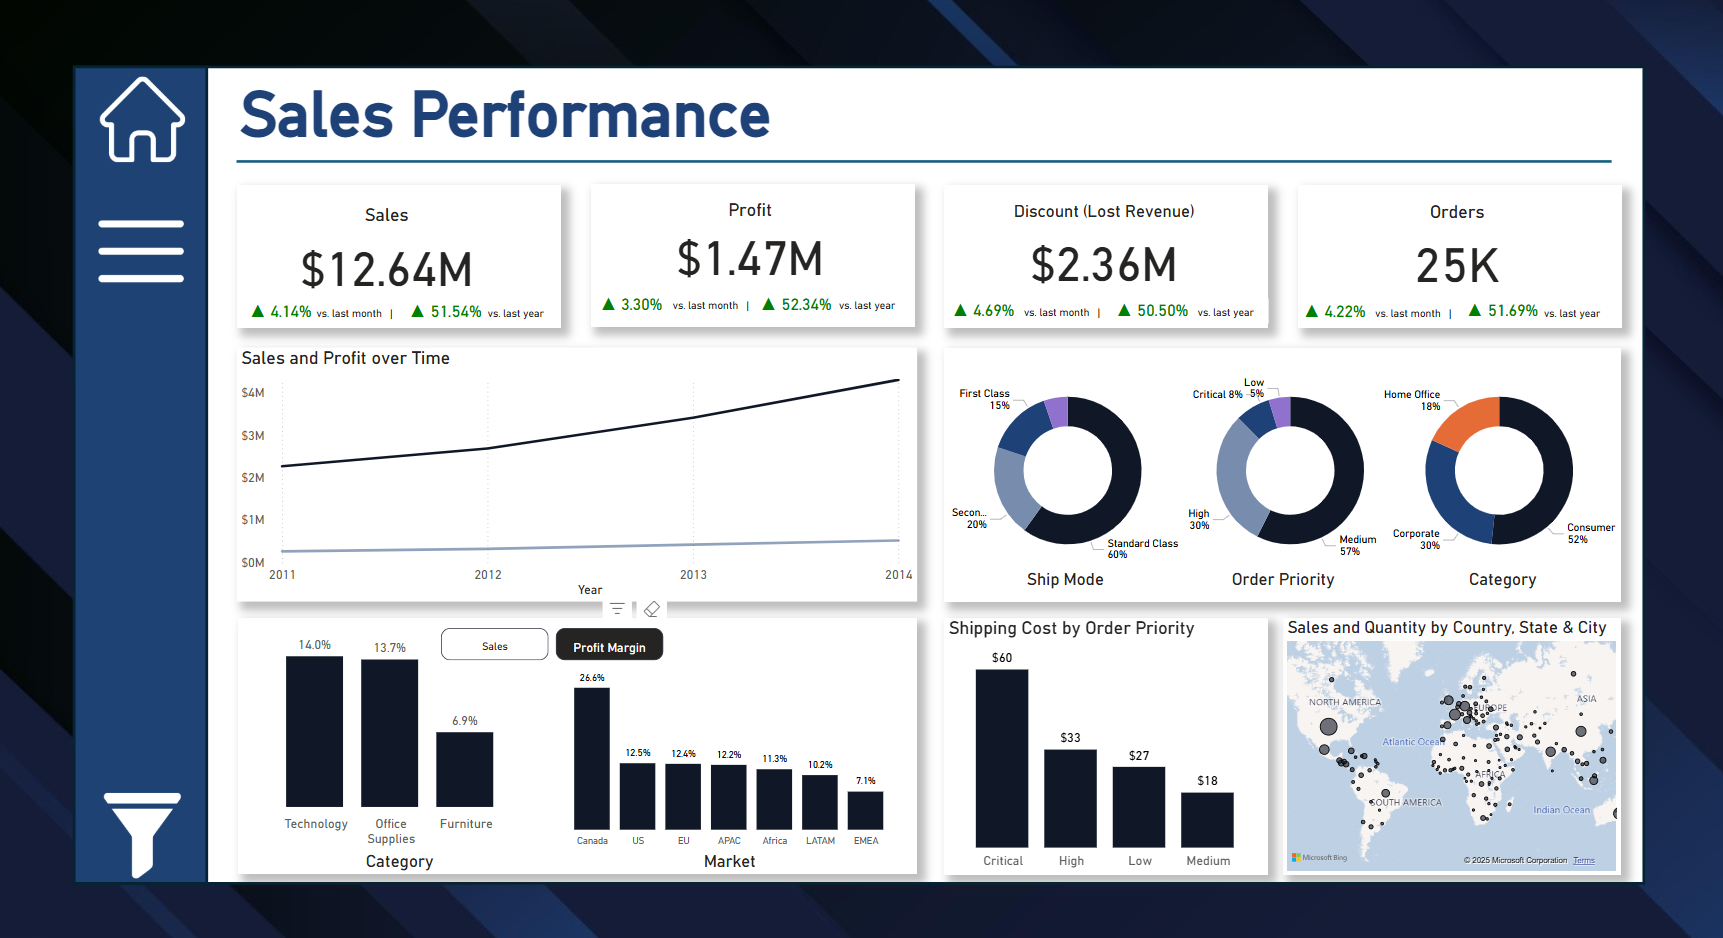

This screenshot's page, from the dashboard's own definition file:
{"tool":"powerbi","page":{"name":"Sales","canvas":[1980,1080],"ordinal":1},"visuals":[{"type":"shape","box":[682.8,210.6,370,163],"z":0,"group":"g2"},{"type":"shape","box":[279,211,370,163],"z":0,"group":"g1"},{"type":"shape","box":[1086.9,211,370.2,163],"z":0,"group":"g4"},{"type":"shape","box":[1491,211,370,163],"z":0,"group":"g3"},{"type":"shape","box":[1087.4,397.1,773.8,290.3],"z":0},{"type":"card","fields":{"Values":["_Measures.Trend Icon MOM Profit"]},"box":[686.8,334.6,84.1,26.7],"z":1000,"group":"g2"},{"type":"card","fields":{"Values":["_Measures.Trend Icon MOM Sales"]},"box":[283,340,91,33],"z":1000,"group":"g1"},{"type":"card","fields":{"Values":["_Measures.Trend Icon MOM Discount"]},"box":[1089.6,340.9,83,28.4],"z":1000,"group":"g4"},{"type":"card","fields":{"Values":["_Measures.Trend Icon MOM Orders"]},"box":[1491,342,83,28],"z":1000,"group":"g3"},{"type":"shape","box":[279.4,706.1,776.3,293.9],"z":1000},{"type":"card","fields":{"Values":["_Measures.Trend Icon YOY Profit"]},"box":[866,334.9,103,28.9],"z":2000,"group":"g2"},{"type":"card","fields":{"Values":["_Measures.Trend Icon YOY Discount"]},"box":[1273.4,336,100,36.4],"z":2000,"group":"g4"},{"type":"card","fields":{"Values":["_Measures.Trend Icon YOY Orders"]},"box":[1672.8,336,103.4,37.5],"z":2000,"group":"g3"},{"type":"card","fields":{"Values":["_Measures.Trend Icon YOY Sales"]},"box":[464,339,105,34],"z":2000,"group":"g1"},{"type":"donutChart","fields":{"Category":["orders.Order Category"],"Y":["_Measures.Line Count"]},"box":[1583,403.2,277.7,270.2],"z":2000},{"type":"card","title":"Profit","fields":{"Values":["_Measures.Profit"]},"box":[757.4,227.5,216.3,99.4],"z":3000,"group":"g2"},{"type":"card","title":"Discount  (Lost Revenue)","fields":{"Values":["_Measures.Discount (Lost Revenue)"]},"box":[1161.6,229.6,216.4,109.2],"z":3000,"group":"g4"},{"type":"card","title":"Orders","fields":{"Values":["_Measures.Order Count"]},"box":[1565.3,229.6,215.2,109.6],"z":3000,"group":"g3"},{"type":"card","title":"Sales","fields":{"Values":["_Measures.Sales"]},"box":[340.6,231.7,219.8,114.3],"z":3000,"group":"g1"},{"type":"donutChart","fields":{"Y":["_Measures.Line Count"],"Category":["orders.Order Priority"]},"box":[1344.7,403.2,277,270.2],"z":3000},{"type":"textbox","box":[276.8,82.1,683.9,101.8],"z":4000},{"type":"textbox","box":[771,335,107,32],"z":4000,"group":"g2"},{"type":"textbox","box":[1172.2,341.2,106,29],"z":4000,"group":"g4"},{"type":"textbox","box":[364.1,341.9,112.8,31.9],"z":4000,"group":"g1"},{"type":"textbox","box":[1574,342,112,29],"z":4000,"group":"g3"},{"type":"group","id":"g1","title":"Sales Card","box":[279,211,370,163],"z":5000},{"type":"textbox","box":[961.1,335.3,89.1,32.7],"z":5000,"group":"g2"},{"type":"textbox","box":[1371,341,86,28],"z":5000,"group":"g4"},{"type":"textbox","box":[561,342,84,30],"z":5000,"group":"g1"},{"type":"textbox","box":[1766,342,88,29],"z":5000,"group":"g3"},{"type":"group","id":"g2","title":"Profit Card","box":[682.8,210.6,370,163],"z":6000},{"type":"lineChart","title":"Sales and Profit over Time","fields":{"Category":["Date.Date Hierarchy.Year","Date.Date Hierarchy.Quarter","Date.Date Hierarchy.Month Short","Date.Date Hierarchy.Date"],"Y":["_Measures.Sales","_Measures.Profit"]},"box":[278.4,396.9,777.3,290],"z":8000},{"type":"group","id":"g3","title":"Orders Card","box":[1491,211,370,163],"z":9000},{"type":"group","id":"g4","title":"Discount Card","box":[1086.9,211,370.2,163],"z":10000},{"type":"columnChart","fields":{"Y":["_Measures.Sales","_Measures.Profit Margin"],"Category":["product.Category"]},"box":[283,712,332,264],"z":11000},{"type":"advancedSlicerVisual","fields":{"Values":["Metrics.Metrics"]},"box":[506.5,712.2,264.2,47.2],"z":12000},{"type":"map","title":"Sales and Quantity by Country, State & City","fields":{"Category":["store.city Hierarchy.country","store.city Hierarchy.state","store.city Hierarchy.city"],"Size":["_Measures.Sales"]},"box":[1474.8,705.8,386.4,294.2],"z":13000},{"type":"columnChart","title":"Shipping Cost by Order Priority","fields":{"Y":["_Measures.Avg Shipping Cost"],"Category":["orders.Order Priority"]},"box":[1087.4,705.8,369.9,294.2],"z":14000},{"type":"columnChart","fields":{"Y":["_Measures.Sales","_Measures.Profit Margin"],"Category":["store.market"]},"box":[639,752,406,224],"z":15000},{"type":"donutChart","fields":{"Y":["_Measures.Line Count"],"Category":["orders.ship_mode"]},"box":[1089.4,403.2,277,270.2],"z":16000},{"type":"textbox","box":[405,969,118,40],"z":17000},{"type":"textbox","box":[800,968,84,41],"z":18000},{"type":"textbox","box":[1164.9,645.7,122.3,41.5],"z":19000},{"type":"textbox","box":[1393.6,645.7,160.6,41.5],"z":20000},{"type":"textbox","box":[1663.8,645.7,122.3,41.5],"z":21000},{"type":"image","box":[75,246.4,187.5,107.1],"z":22000},{"type":"image","box":[76.8,901.8,187,107],"z":23000},{"type":"image","box":[76.8,82.1,187,107],"z":24000}]}

Visuals, with their boxes in screenshot pixels (x1, y1, x2, y2), scaled from the page's 1980x1080 canvas onto the 1723x938 screenshot:
shape: rect(594, 183, 916, 324)
shape: rect(243, 183, 565, 325)
shape: rect(946, 183, 1268, 325)
shape: rect(1297, 183, 1619, 325)
shape: rect(946, 345, 1620, 597)
card - _Measures.Trend Icon MOM Profit: rect(598, 291, 671, 314)
card - _Measures.Trend Icon MOM Sales: rect(246, 295, 325, 324)
card - _Measures.Trend Icon MOM Discount: rect(948, 296, 1020, 321)
card - _Measures.Trend Icon MOM Orders: rect(1297, 297, 1370, 321)
shape: rect(243, 613, 919, 869)
card - _Measures.Trend Icon YOY Profit: rect(754, 291, 843, 316)
card - _Measures.Trend Icon YOY Discount: rect(1108, 292, 1195, 323)
card - _Measures.Trend Icon YOY Orders: rect(1456, 292, 1546, 324)
card - _Measures.Trend Icon YOY Sales: rect(404, 294, 495, 324)
donutChart - orders.Order Category x _Measures.Line Count: rect(1378, 350, 1619, 585)
"Profit" card: rect(659, 198, 847, 284)
"Discount  (Lost Revenue)" card: rect(1011, 199, 1199, 294)
"Orders" card: rect(1362, 199, 1549, 295)
"Sales" card: rect(296, 201, 488, 301)
donutChart - _Measures.Line Count x orders.Order Priority: rect(1170, 350, 1411, 585)
textbox: rect(241, 71, 836, 160)
textbox: rect(671, 291, 764, 319)
textbox: rect(1020, 296, 1112, 322)
textbox: rect(317, 297, 415, 325)
textbox: rect(1370, 297, 1467, 322)
"Sales Card" group: rect(243, 183, 565, 325)
textbox: rect(836, 291, 914, 320)
textbox: rect(1193, 296, 1268, 320)
textbox: rect(488, 297, 561, 323)
textbox: rect(1537, 297, 1613, 322)
"Profit Card" group: rect(594, 183, 916, 324)
"Sales and Profit over Time" lineChart: rect(242, 345, 919, 597)
"Orders Card" group: rect(1297, 183, 1619, 325)
"Discount Card" group: rect(946, 183, 1268, 325)
columnChart - _Measures.Sales x _Measures.Profit Margin: rect(246, 618, 535, 848)
advancedSlicerVisual - Metrics.Metrics: rect(441, 619, 671, 660)
"Sales and Quantity by Country, State & City" map: rect(1283, 613, 1620, 869)
"Shipping Cost by Order Priority" columnChart: rect(946, 613, 1268, 869)
columnChart - _Measures.Sales x _Measures.Profit Margin: rect(556, 653, 909, 848)
donutChart - _Measures.Line Count x orders.ship_mode: rect(948, 350, 1189, 585)
textbox: rect(352, 842, 455, 876)
textbox: rect(696, 841, 769, 876)
textbox: rect(1014, 561, 1120, 597)
textbox: rect(1213, 561, 1352, 597)
textbox: rect(1448, 561, 1554, 597)
image: rect(65, 214, 228, 307)
image: rect(67, 783, 230, 876)
image: rect(67, 71, 230, 164)
